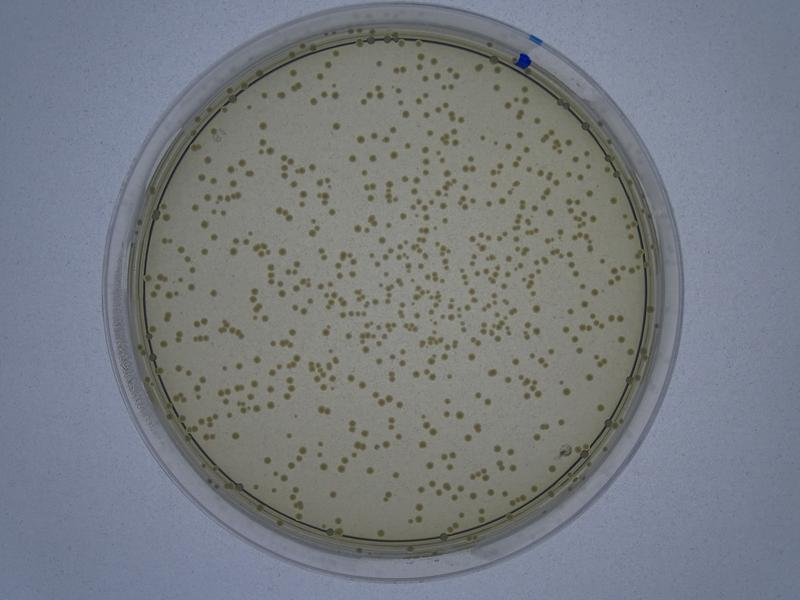colony: (328, 119, 342, 133), (466, 351, 477, 365), (487, 365, 498, 378), (397, 211, 409, 222), (230, 429, 241, 441), (284, 430, 295, 442), (252, 353, 262, 366), (364, 465, 375, 476), (583, 372, 594, 383), (258, 119, 270, 129), (259, 455, 272, 464), (531, 304, 542, 314), (595, 403, 605, 413), (347, 152, 356, 163), (207, 290, 219, 298), (346, 372, 354, 384), (207, 233, 217, 242), (457, 409, 464, 421), (378, 237, 388, 245), (391, 470, 399, 479), (560, 325, 569, 332)
